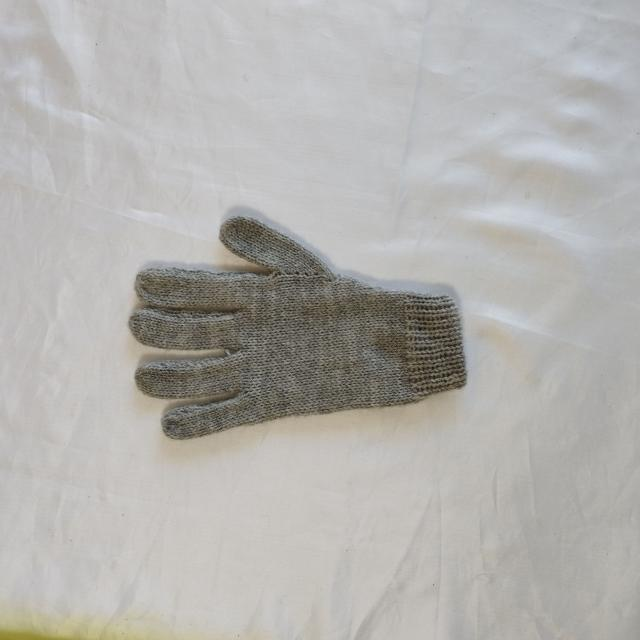Guante: (128, 214, 468, 441)
